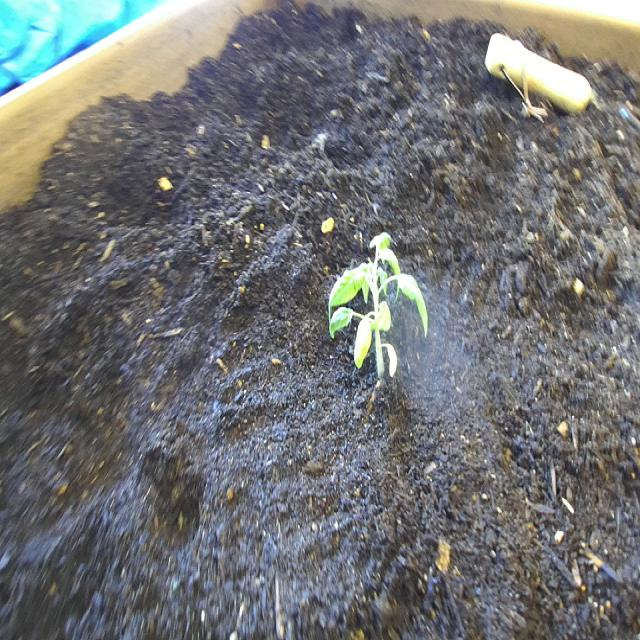Healthy: (321, 225, 434, 391)
